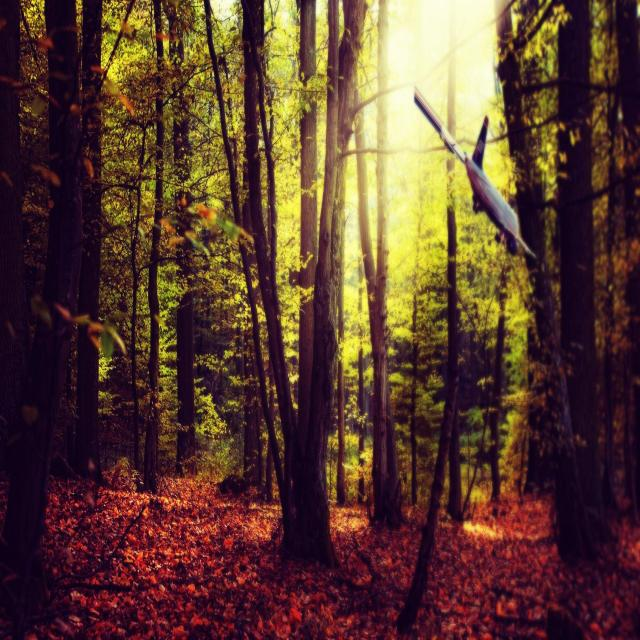airplane: (413, 85, 537, 259)
